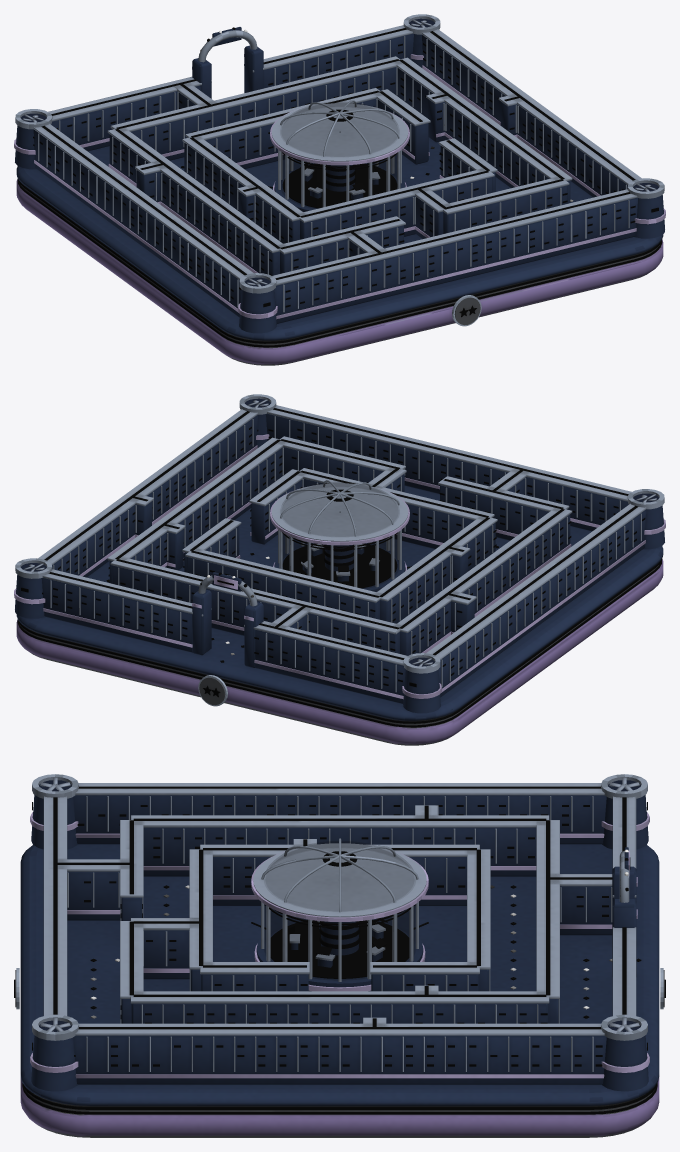
File: SM_Evo_ResearchInstitute.fbx
3 renders of one model, top to bottom at view 1: azimuth 30°, elevation 25°; view 2: azimuth 150°, elevation 25°; view 3: azimuth 270°, elevation 25°, orthographic. The views are drawn at different scales.
Parts seen in each view (by area): view 1: SMN_Evo_ResearchInstitute, Emblem_Fx_ResearchInstitute; view 2: SMN_Evo_ResearchInstitute, Emblem_Fx_ResearchInstitute; view 3: SMN_Evo_ResearchInstitute, Emblem_Fx_ResearchInstitute.
Boxes of the visible parts, x1,y1,x2,y2 form: SMN_Evo_ResearchInstitute: (14, 14, 665, 365); Emblem_Fx_ResearchInstitute: (17, 27, 662, 347); SMN_Evo_ResearchInstitute: (14, 394, 665, 745); Emblem_Fx_ResearchInstitute: (17, 408, 662, 727); SMN_Evo_ResearchInstitute: (15, 774, 664, 1137); Emblem_Fx_ResearchInstitute: (14, 786, 665, 1114).
Bounding box in the file's own units: 1.84 × 0.4993 × 1.88.
